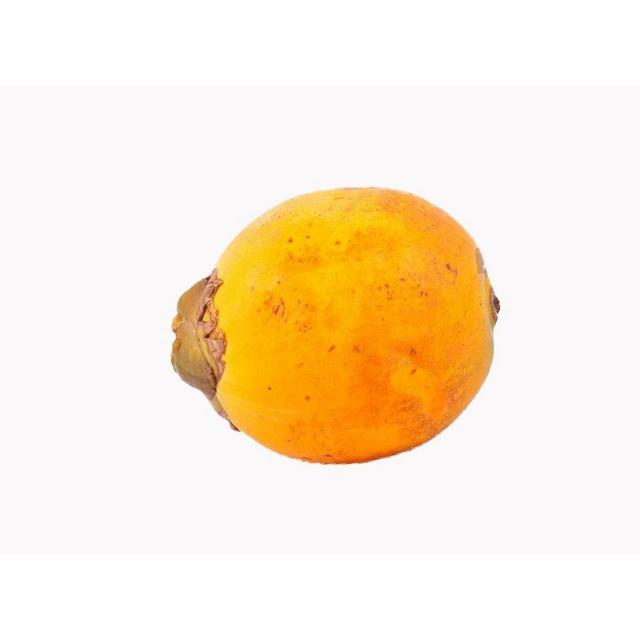good: (170, 188, 500, 467)
